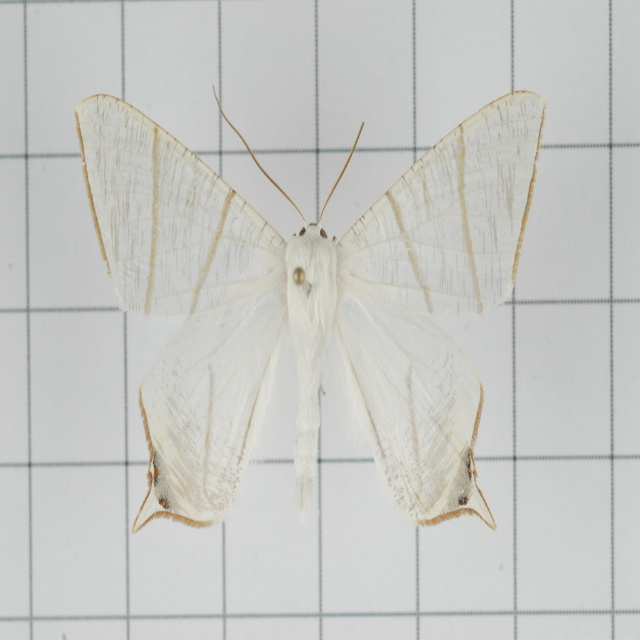Butterfly: (64, 79, 548, 564)
